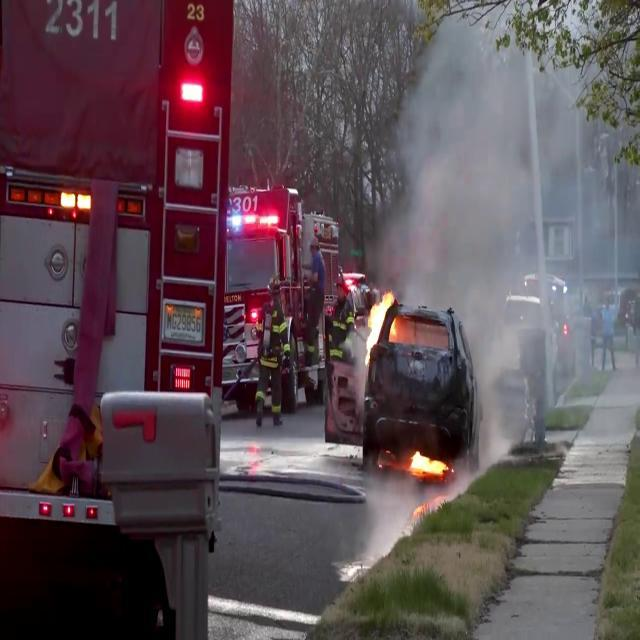Fire: (364, 282, 401, 360), (407, 442, 445, 482)
Smoke: (378, 8, 632, 427)
